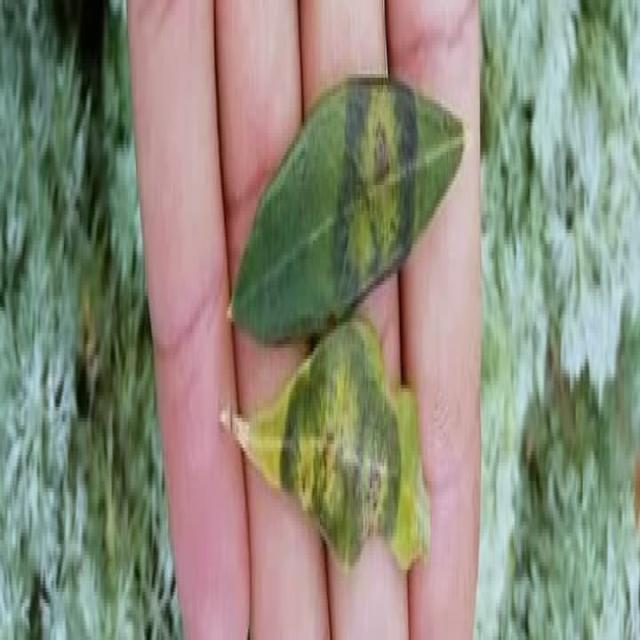Peacock Eye: (234, 78, 463, 340), (221, 374, 429, 570)
